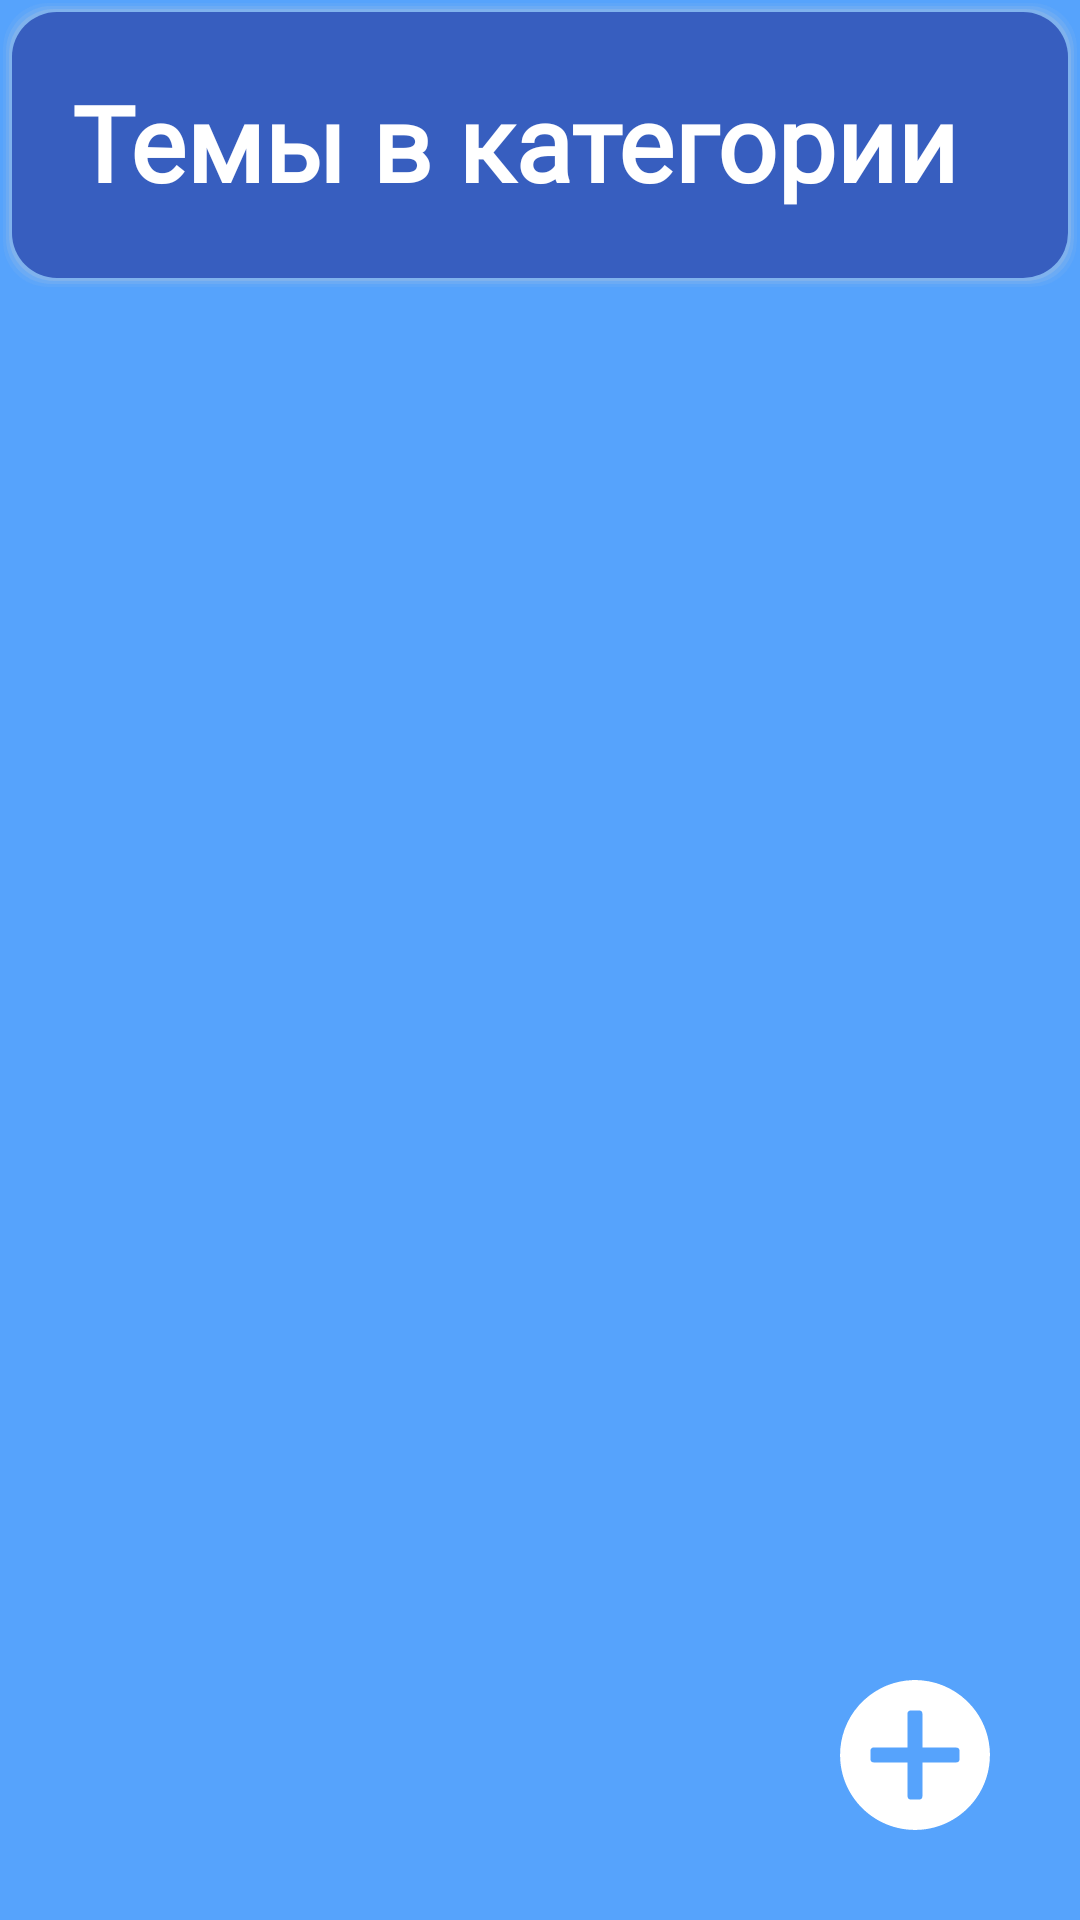

Where to tap for icons on this 1080w x 1920h app screen, as point (x, y):
plus: point (915, 1755)
